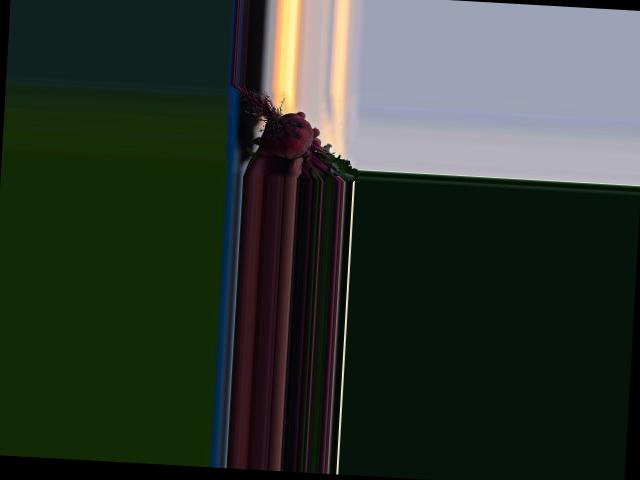beet: (227, 83, 362, 181)
